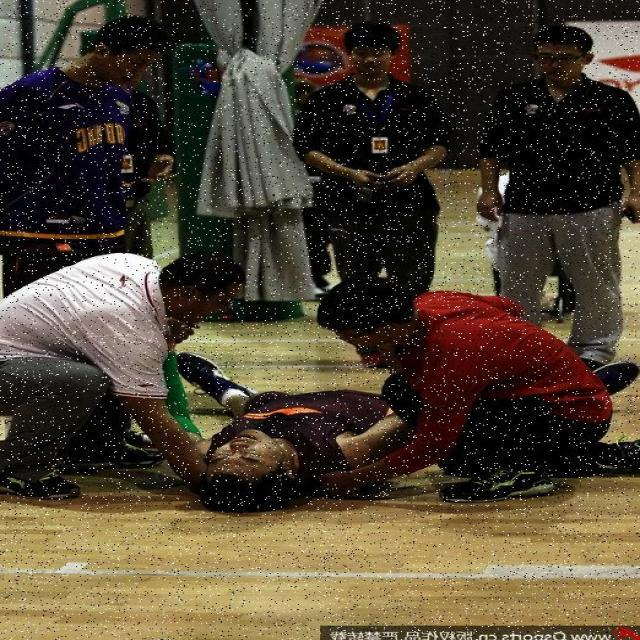fall: (180, 349, 391, 514)
